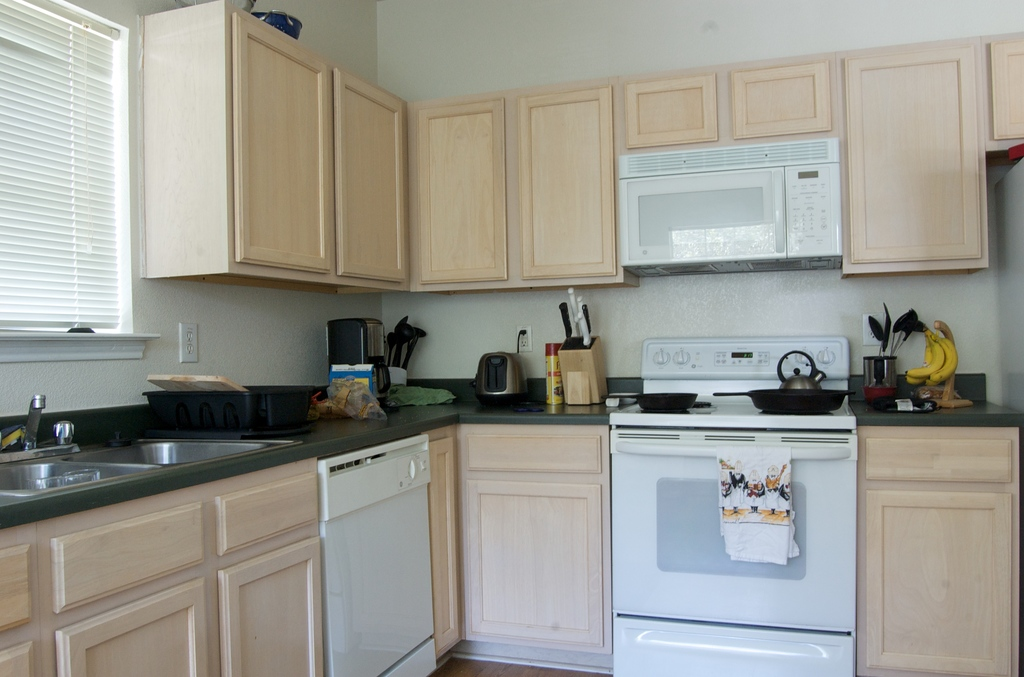cabinet door: (842, 55, 977, 249), (870, 487, 1002, 677), (236, 25, 328, 268), (474, 486, 595, 650), (410, 114, 508, 277), (518, 102, 610, 271), (338, 85, 406, 274), (223, 575, 324, 677), (73, 615, 196, 677), (727, 72, 829, 128), (630, 82, 719, 142), (989, 39, 1024, 127)
handle: (774, 180, 785, 245)
